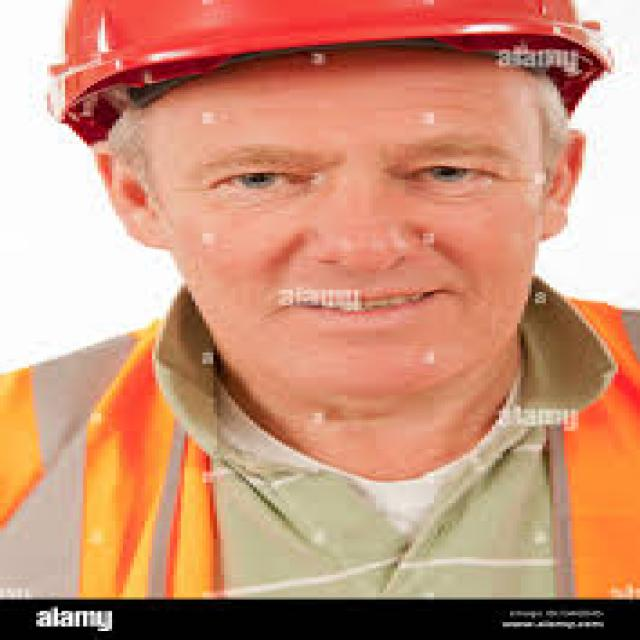Reflective-Jacket: (0, 294, 640, 602)
Safety-Helmet: (43, 0, 630, 101)
